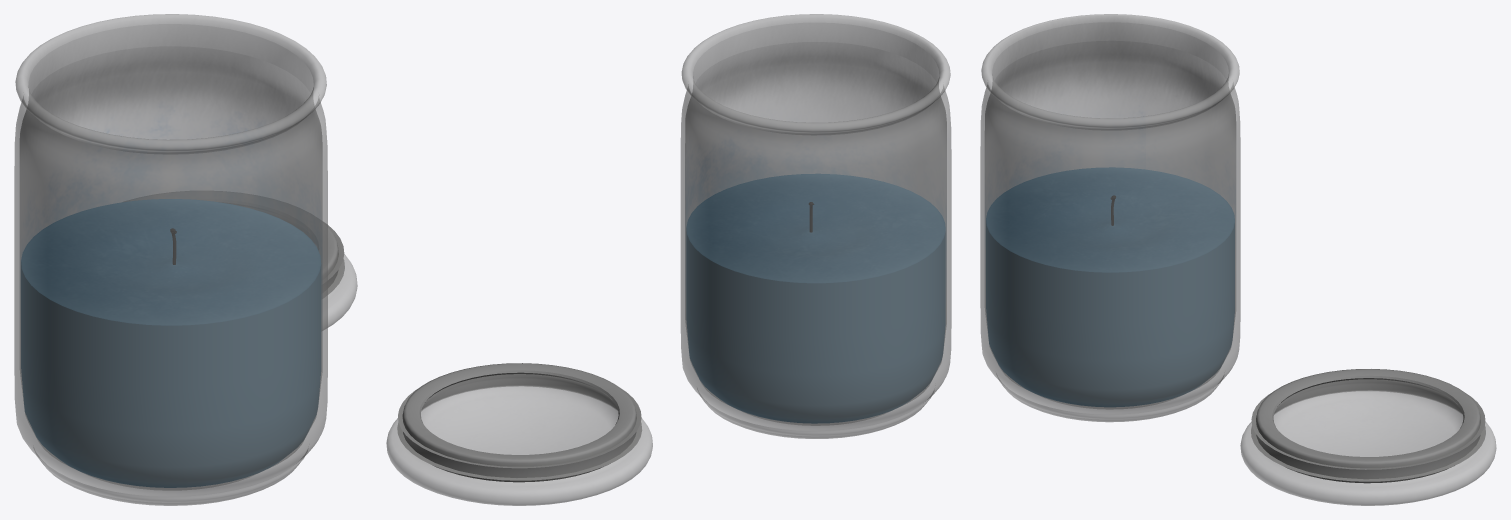
File: candle.gltf
3 renders of one model, left to right at view 1: azimuth 30°, elevation 25°; view 2: azimuth 150°, elevation 25°; view 3: azimuth 270°, elevation 25°, orthographic. The views are drawn at different scales.
Parts seen in each view (by area): view 1: Candle; view 2: Candle; view 3: Candle.
Boxes of the visible parts, box(x1,y1,x2,y2) form: Candle: box(14, 14, 357, 505); Candle: box(386, 14, 951, 505); Candle: box(980, 14, 1496, 505).
Size of the model in its own units: 0.12 by 0.0944 by 0.1414.
Materials: 3 (3 with a texture image).
